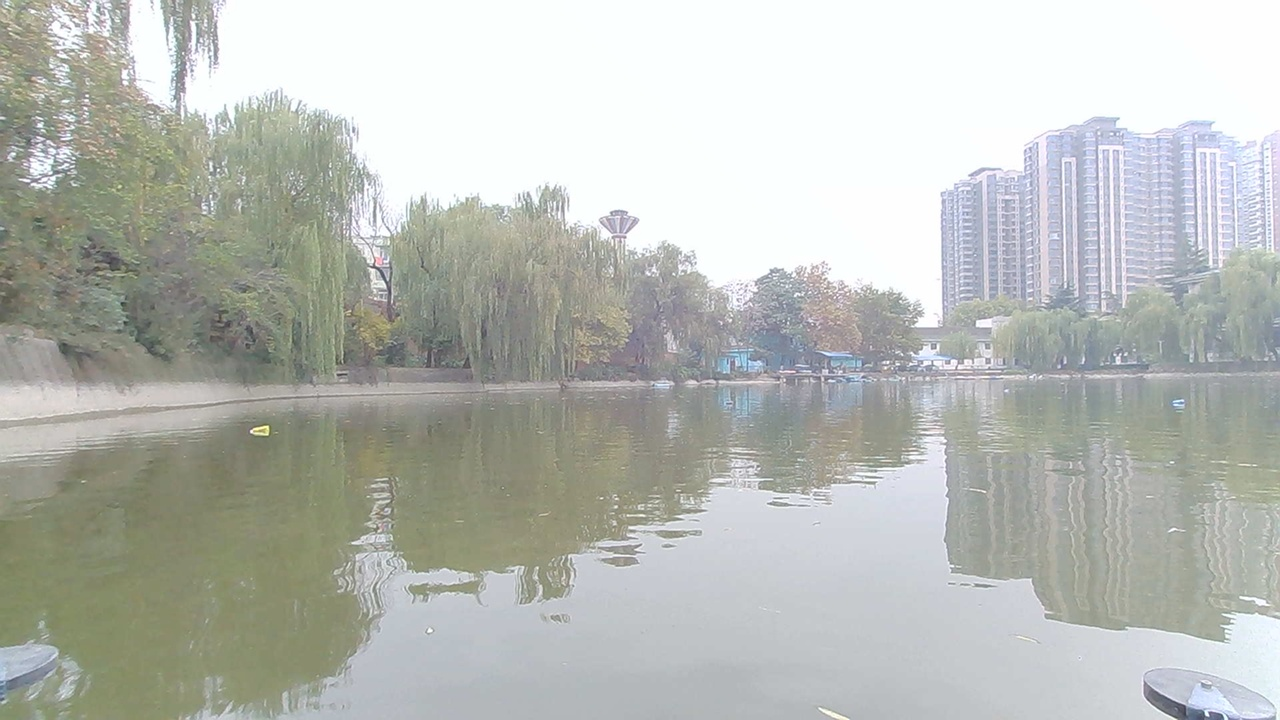bottle: (247, 421, 281, 444), (1161, 393, 1192, 416), (720, 400, 749, 415)
